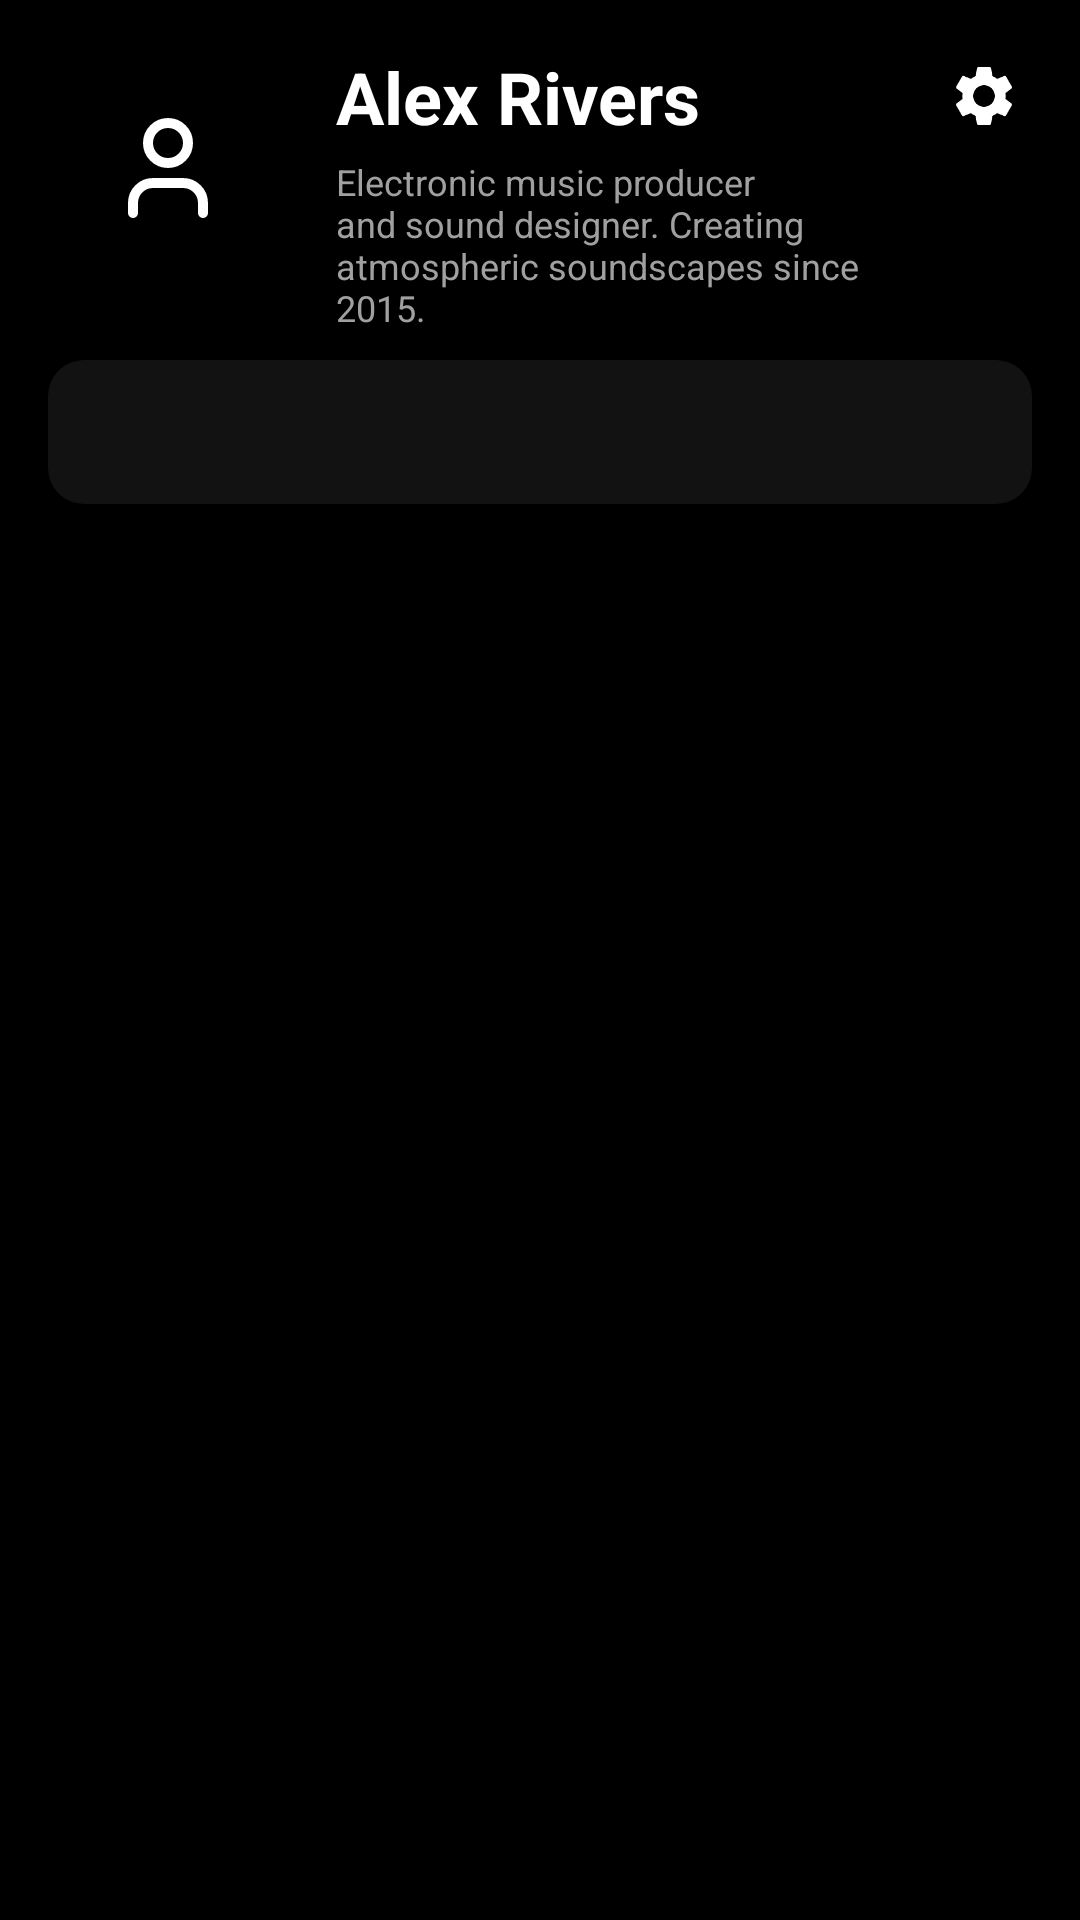

Icons on this 1080 × 1920 Android screen, each with the point to tap as (x,y):
settings: (984,96)
